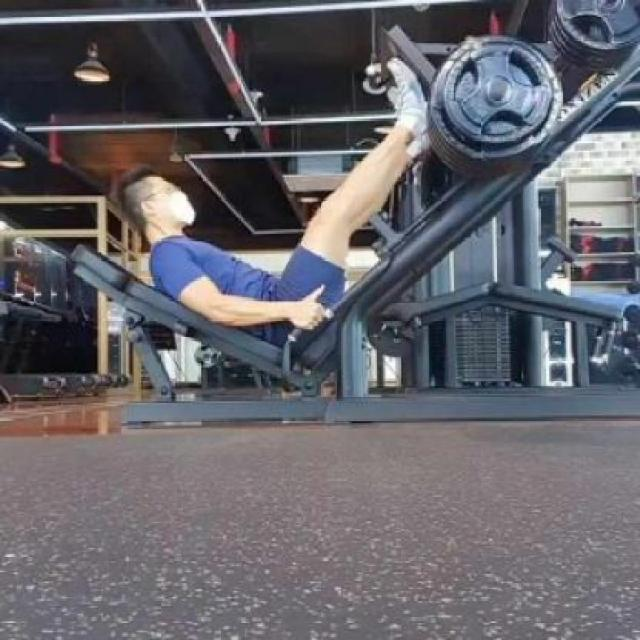leg press: (23, 0, 640, 477)
